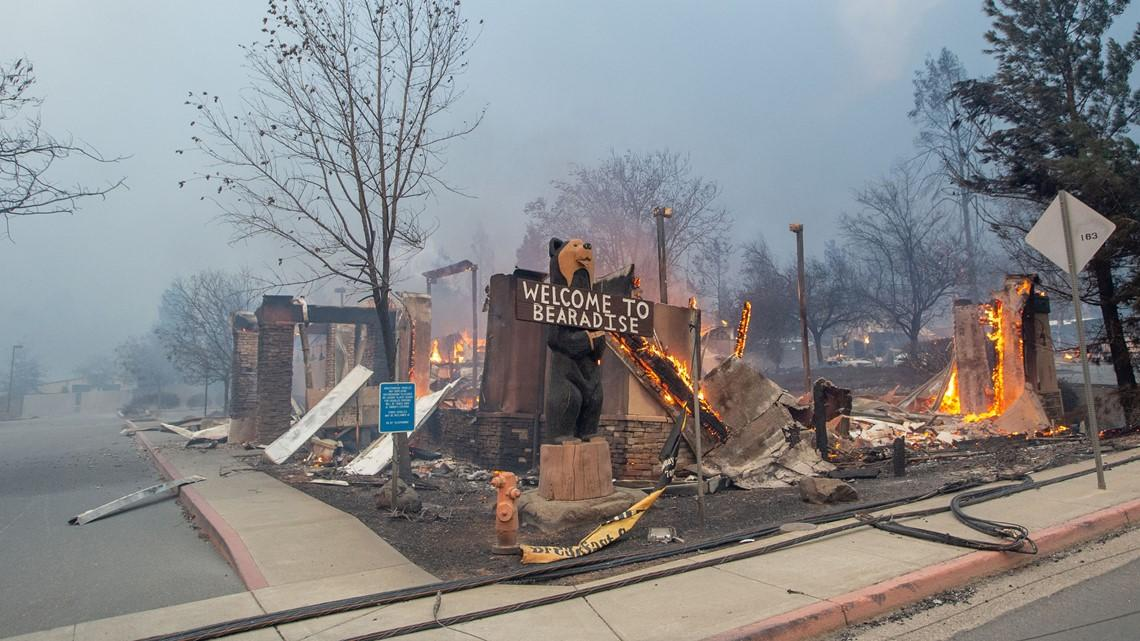Fire: (931, 279, 1041, 450), (610, 320, 743, 443)
